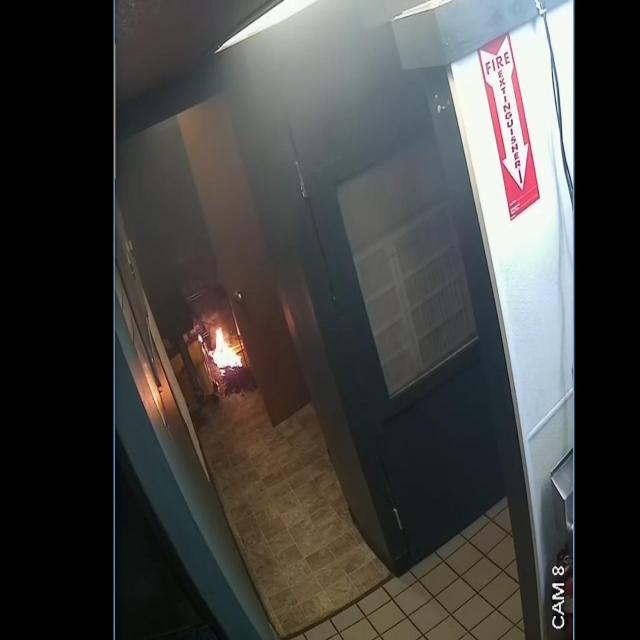fire: (208, 325, 243, 369)
